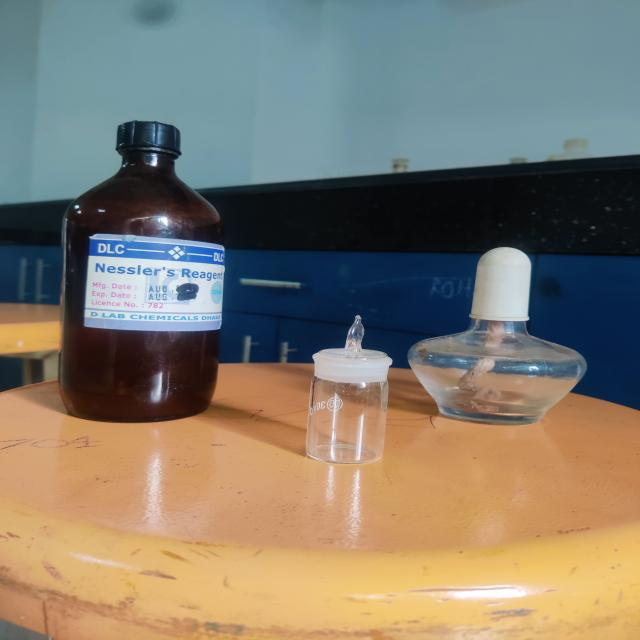Nessler_Reagent_Bottle: (38, 110, 246, 436)
Spirit_Lamp: (398, 236, 588, 438)
Weighing_Bottle: (286, 307, 388, 474)
